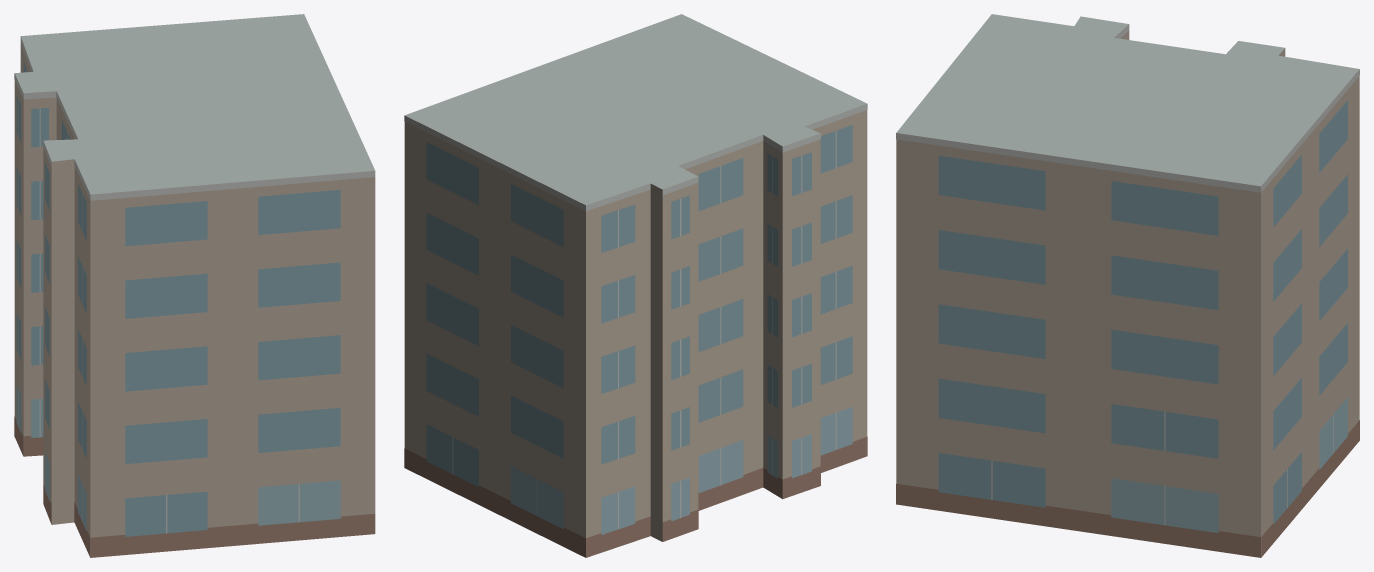
Rendered from survey-upis-33044561.glb.
3 views of the same model, side by side, from view 1: azimuth 30°, elevation 25°; view 2: azimuth 150°, elevation 25°; view 3: azimuth 270°, elevation 25° (orthographic). The views are drawn at different scales.
Visible parts, largest first — view 1: survey-upis-33044561.tmp; view 2: survey-upis-33044561.tmp; view 3: survey-upis-33044561.tmp.
Part boxes in pixels (left/top/right/bottom): survey-upis-33044561.tmp: left=14, top=14, right=375, bottom=557; survey-upis-33044561.tmp: left=404, top=14, right=867, bottom=557; survey-upis-33044561.tmp: left=896, top=14, right=1359, bottom=557.
Size of the model in its own units: 14.14 by 14.2 by 16.07.
